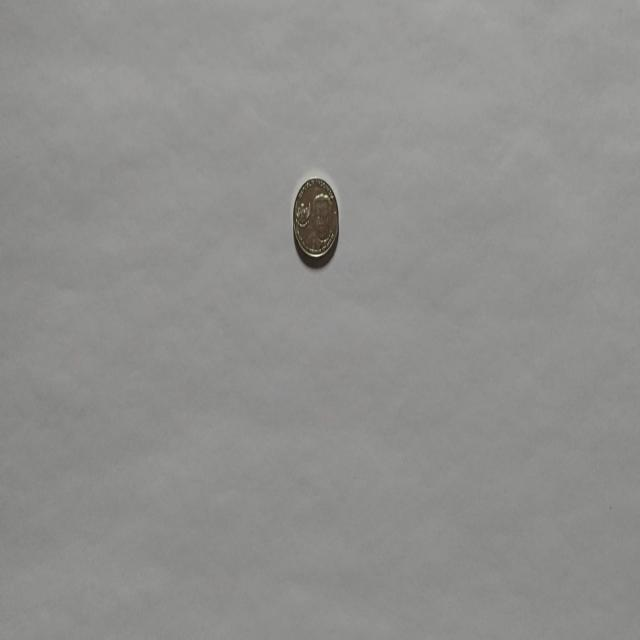seratus rupiah: (292, 175, 339, 262)
